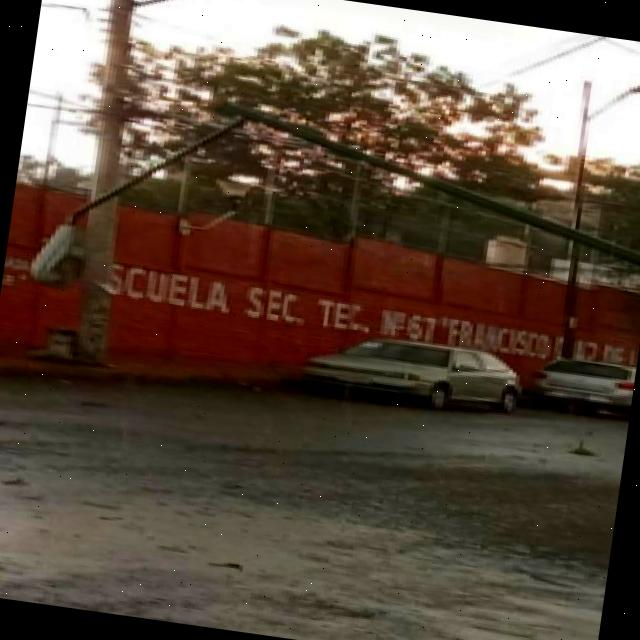Broken Pole: (26, 100, 640, 283)
